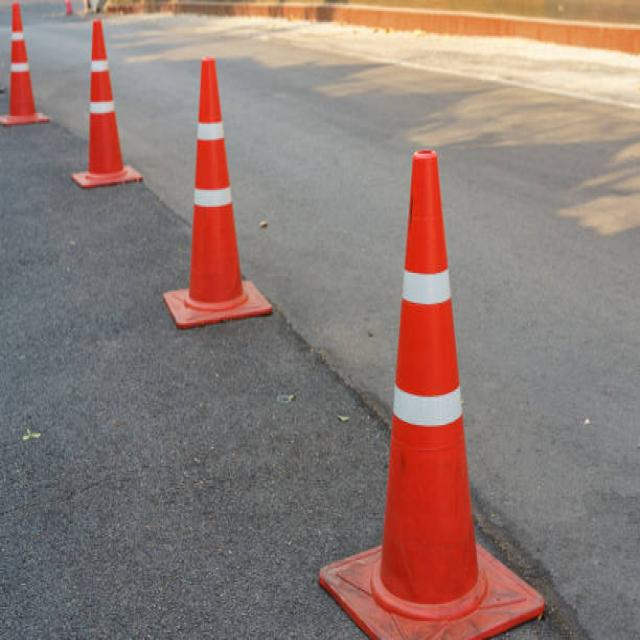cone: (312, 141, 554, 640), (150, 56, 279, 335), (72, 20, 142, 183), (0, 0, 53, 135)
